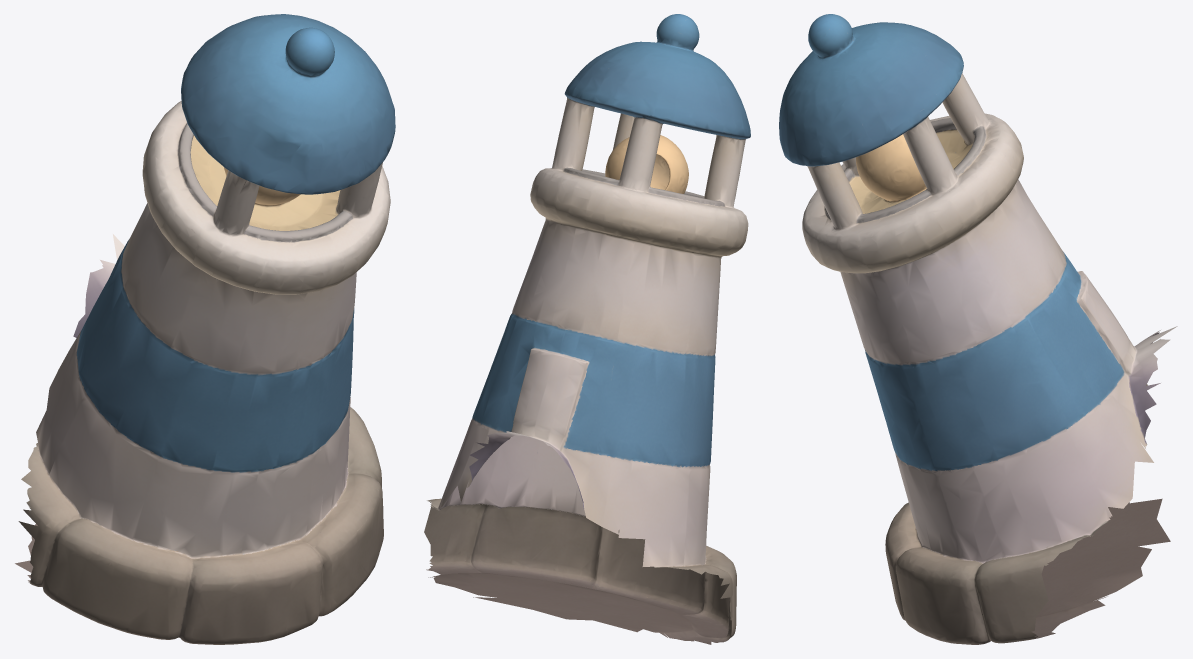
The model's file is lighthouse.glb.
3 renders of one model, left to right at view 1: azimuth 30°, elevation 25°; view 2: azimuth 150°, elevation 25°; view 3: azimuth 270°, elevation 25°, orthographic. The views are drawn at different scales.
Bounding box in the file's own units: 0.4792 × 0.8504 × 0.5224.
Materials: 1 (1 with a texture image).
